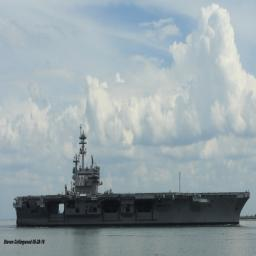Portanaves: (13, 121, 253, 233)
